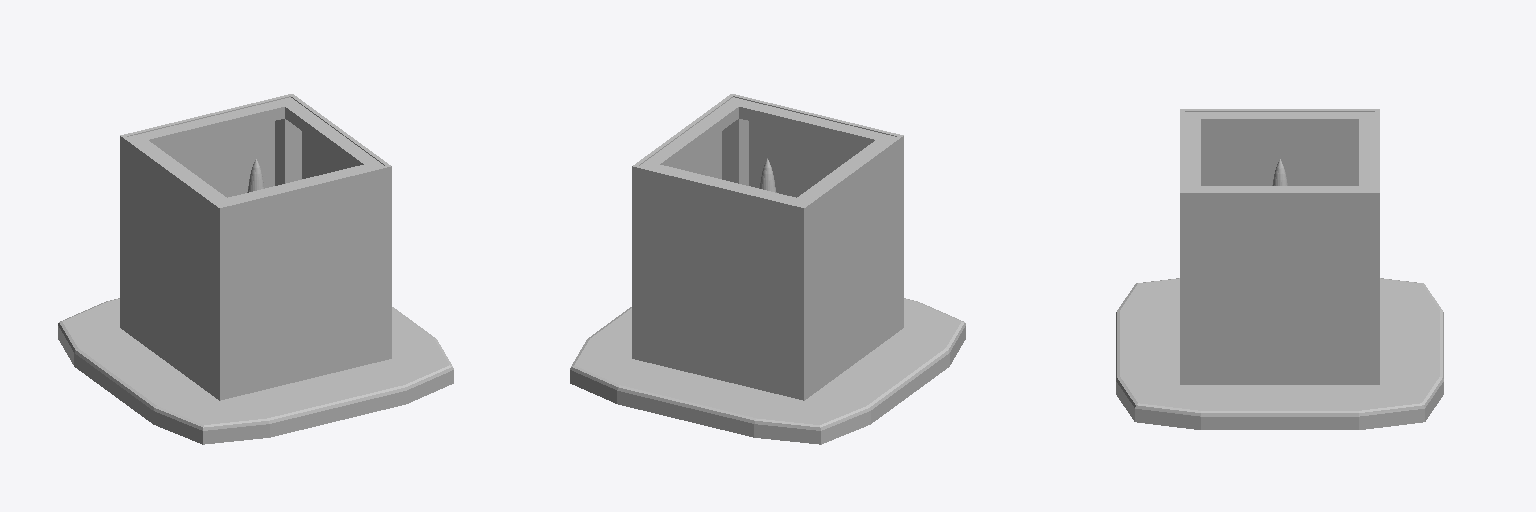
The model's file is lantern.obj.
3 views of the same model, side by side, from view 1: azimuth 30°, elevation 25°; view 2: azimuth 150°, elevation 25°; view 3: azimuth 270°, elevation 25° (orthographic).
Parts seen in each view (by area): view 1: The_cloth, Wood; view 2: The_cloth, Wood; view 3: The_cloth, Wood.
Part boxes in pixels (bbox=[...]): The_cloth: bbox=[120, 94, 391, 400]; Wood: bbox=[58, 97, 453, 444]; The_cloth: bbox=[632, 94, 903, 400]; Wood: bbox=[570, 97, 965, 444]; The_cloth: bbox=[1180, 109, 1379, 384]; Wood: bbox=[1116, 112, 1443, 429].
Size of the model in its own units: 249 by 176 by 249.